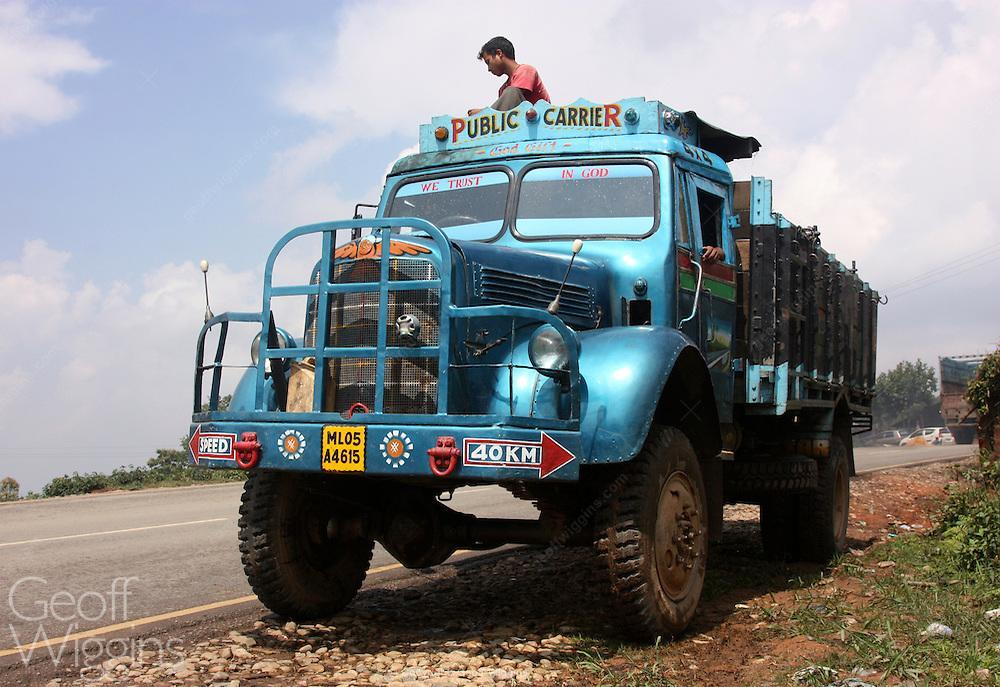truck: (166, 14, 960, 610)
